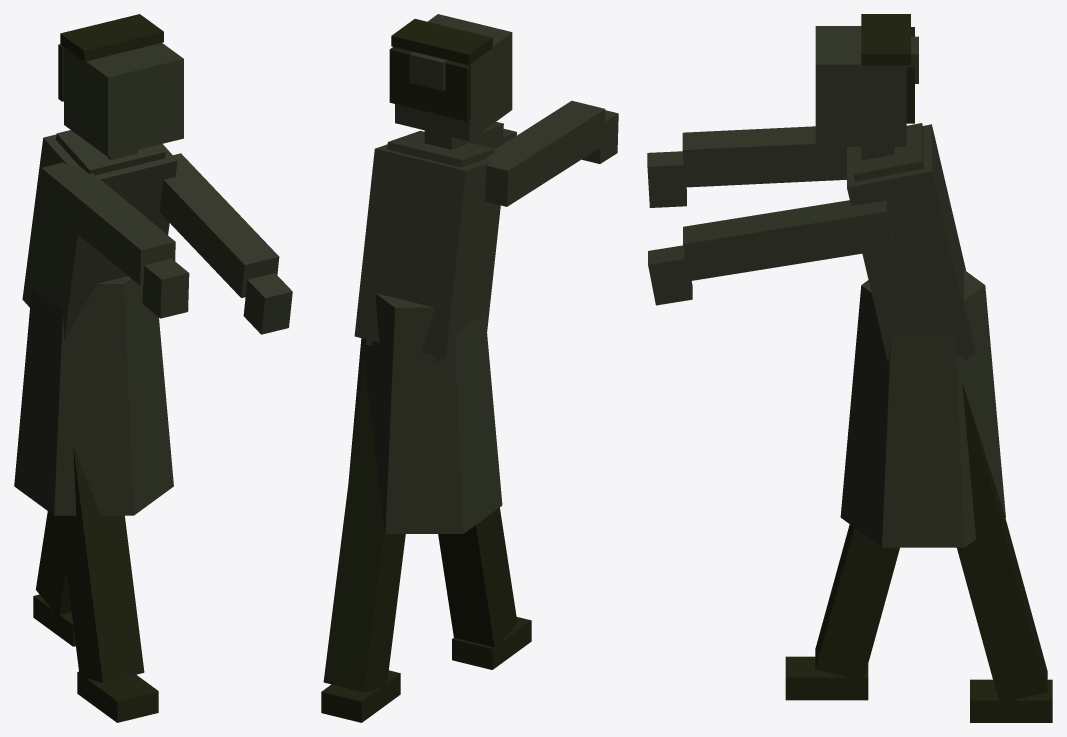
The model's file is SM_ZombiFino_v9_Abrigo_LOD1.fbx.
The picture shows the model from 3 angles, left to right: view 1: azimuth 30°, elevation 25°; view 2: azimuth 150°, elevation 25°; view 3: azimuth 270°, elevation 25°; orthographic projection. The views are drawn at different scales.
Parts seen in each view (by area): view 1: SM_zombi_fino_v9_LOD1; view 2: SM_zombi_fino_v9_LOD1; view 3: SM_zombi_fino_v9_LOD1.
Boxes of the visible parts, <box> form: SM_zombi_fino_v9_LOD1: <box>14,14,292,722</box>; SM_zombi_fino_v9_LOD1: <box>321,14,618,722</box>; SM_zombi_fino_v9_LOD1: <box>647,14,1052,722</box>.
Size of the model in its own units: 0.4 by 1.78 by 0.9796.
